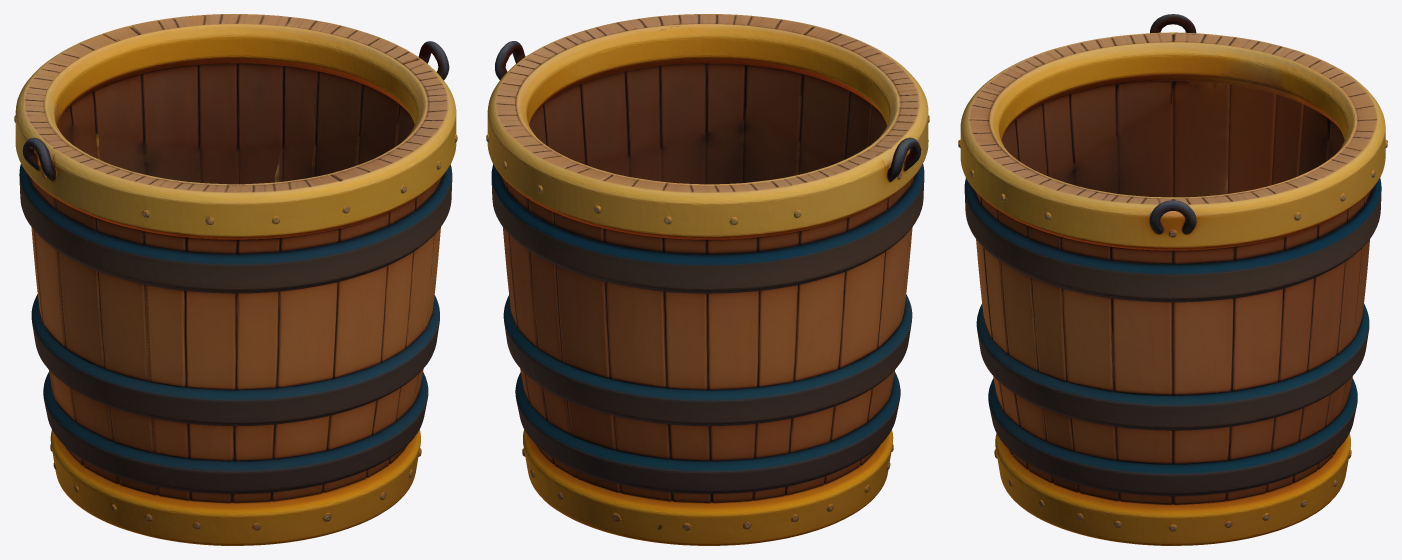
The model's file is mutong.fbx.
3 renders of one model, left to right at view 1: azimuth 30°, elevation 25°; view 2: azimuth 150°, elevation 25°; view 3: azimuth 270°, elevation 25°, orthographic. The views are drawn at different scales.
Visible parts, largest first — view 1: material; view 2: material; view 3: material.
Part boxes in pixels (box(x1,y1,x2,y2)): material: box(14, 14, 457, 545); material: box(486, 14, 929, 545); material: box(958, 14, 1387, 545).
Bounding box in the file's own units: 90.17 × 80.61 × 85.52.
